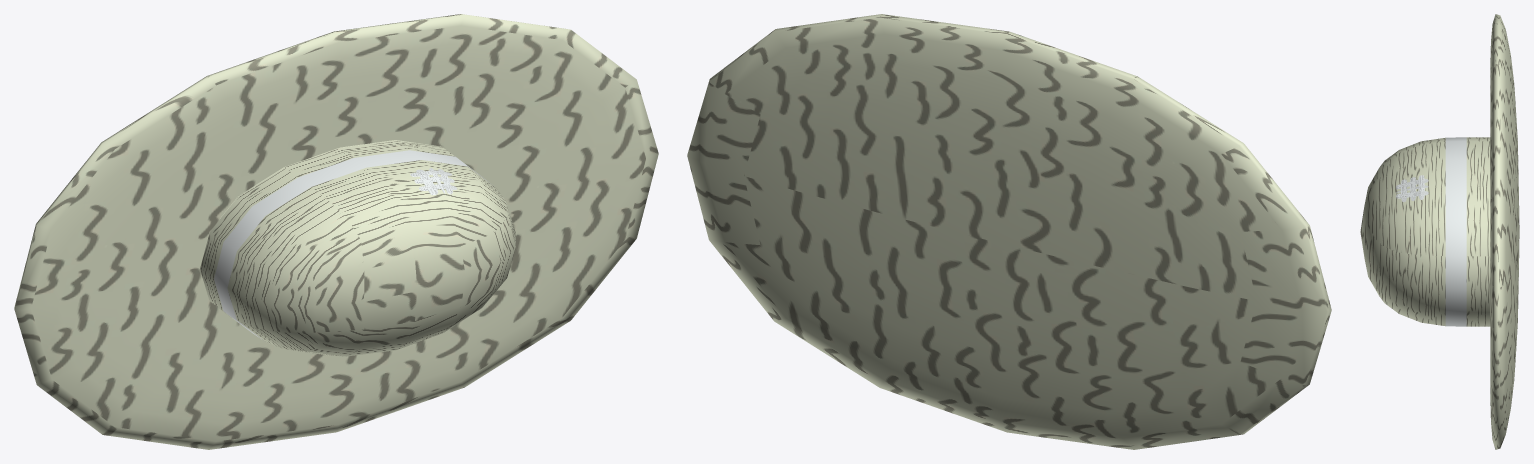
File: item-explorer-hat.glb
The picture shows the model from 3 angles, left to right: view 1: azimuth 30°, elevation 25°; view 2: azimuth 150°, elevation 25°; view 3: azimuth 270°, elevation 25°; orthographic projection. The views are drawn at different scales.
Size of the model in its own units: 139 by 82.76 by 35.57.
Materials: 4 (2 with a texture image).
